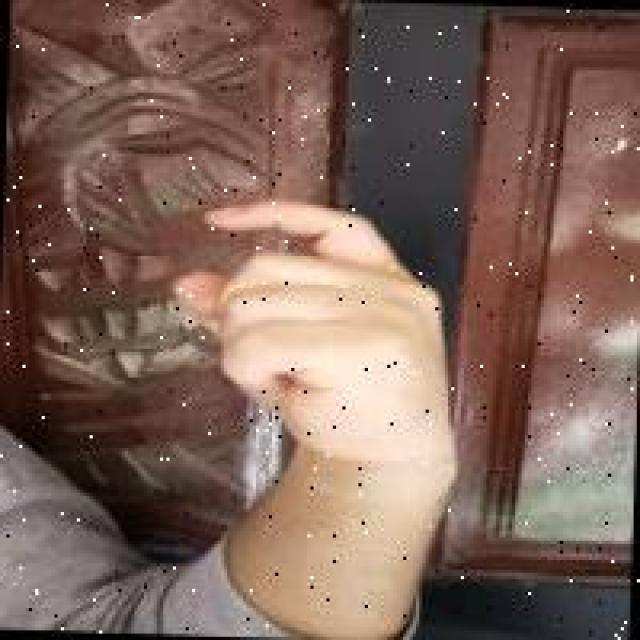X: (165, 190, 469, 472)
